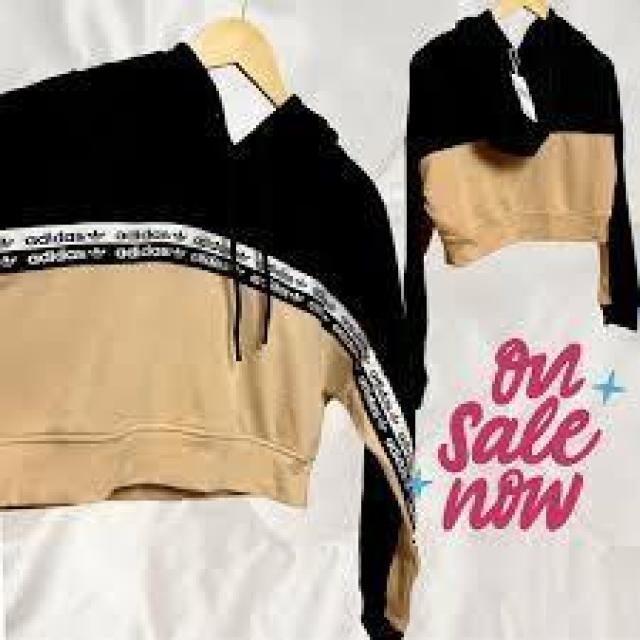sweater: (1, 47, 442, 639), (378, 20, 640, 327)
